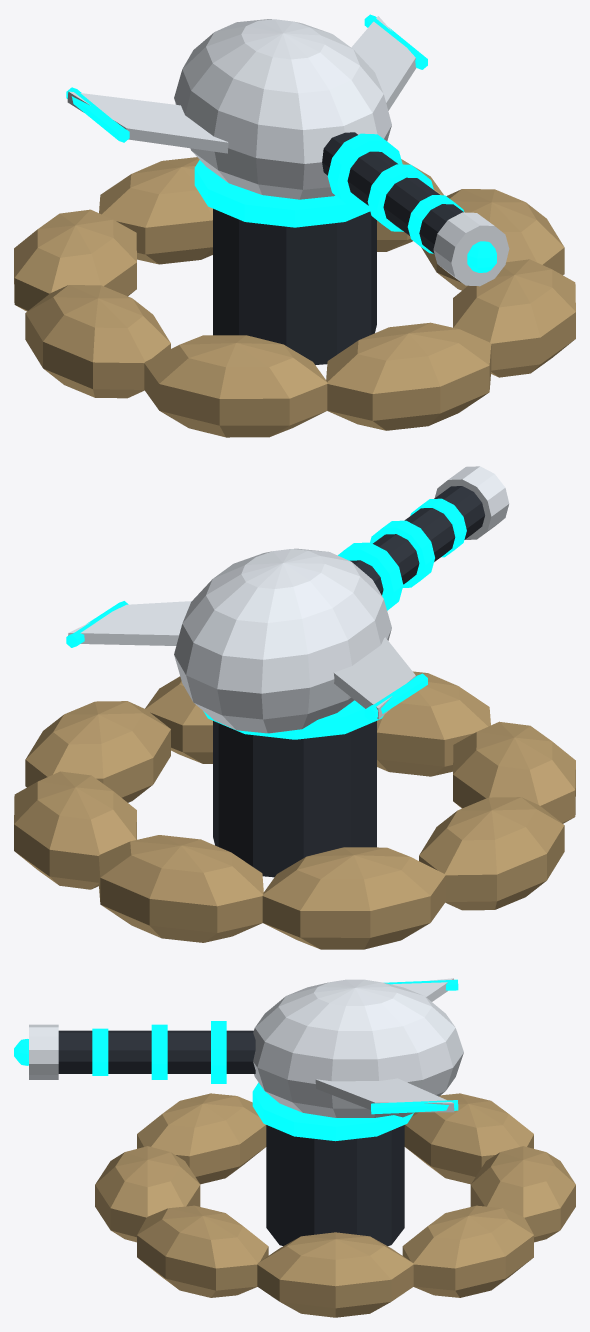
File: laser.glb
3 renders of one model, top to bottom at view 1: azimuth 30°, elevation 25°; view 2: azimuth 150°, elevation 25°; view 3: azimuth 270°, elevation 25°, orthographic. The views are drawn at different scales.
Parts seen in each view (by area): view 1: Base, Gun; view 2: Base, Gun; view 3: Base, Gun.
Part boxes in pixels (x1,y1,x2,y2): Base: [14, 157, 575, 437]; Gun: [66, 14, 509, 286]; Base: [14, 671, 575, 949]; Gun: [66, 466, 509, 733]; Base: [95, 1082, 575, 1317]; Gun: [14, 978, 463, 1117].
Bounding box in the file's own units: 2.43 × 1.36 × 2.84.
